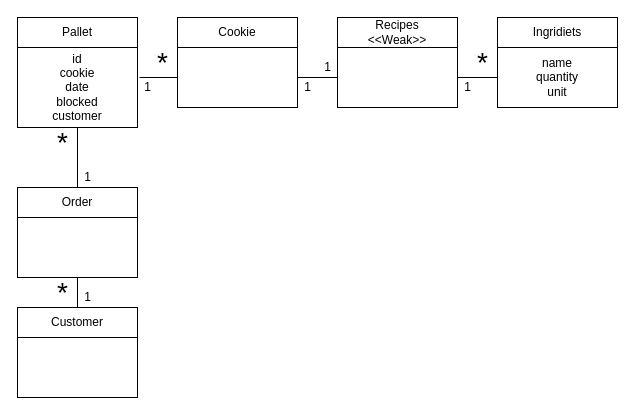
Image size: 635x415. Some labels were removed from this diagram. Each missing label, with the centre of its shape:
cookie ingrident quantity unit: [397,77]
name: [237,77]
name adress orders: [77,367]
order_id pallet_id: [77,247]
